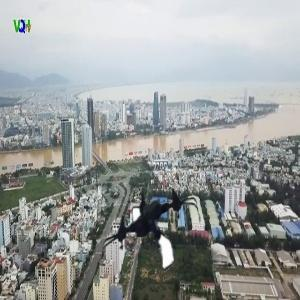drone: (102, 178, 203, 279)
